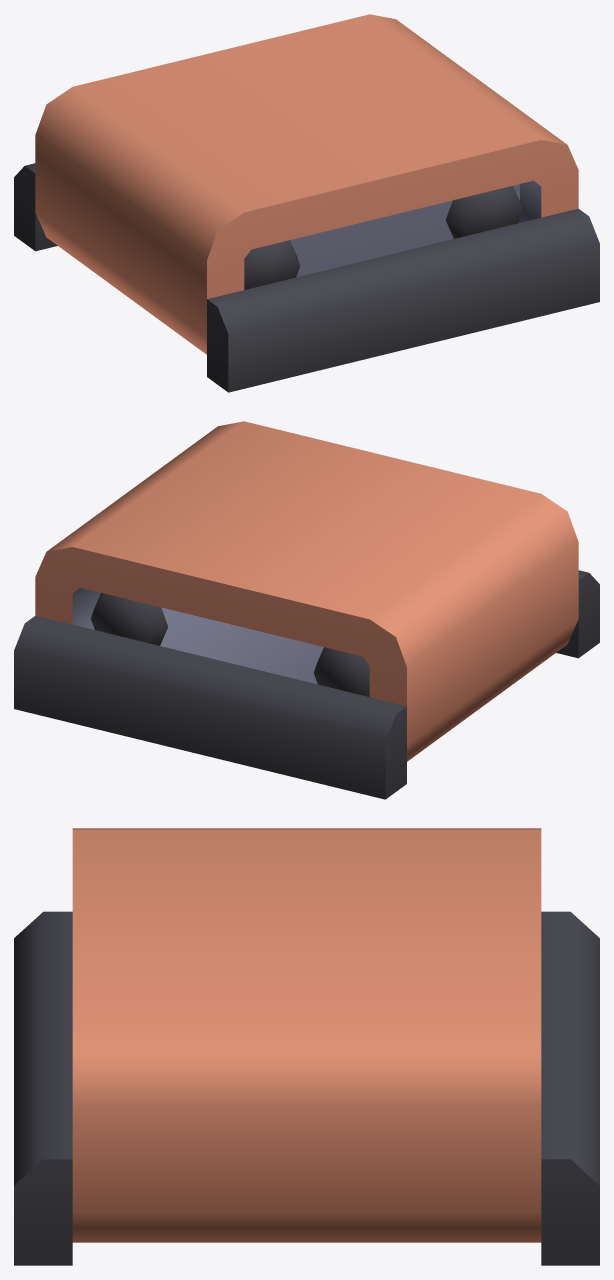
File: conveyor-sides.obj
3 views of the same model, one above another, from view 1: azimuth 30°, elevation 25°; view 2: azimuth 150°, elevation 25°; view 3: azimuth 270°, elevation 25° (orthographic). The views are drawn at different scales.
Visible parts, largest first — view 1: conveyor-sides; view 2: conveyor-sides; view 3: conveyor-sides.
Boxes of the visible parts, x1,y1,x2,y2 form: conveyor-sides: [14, 14, 599, 392]; conveyor-sides: [14, 421, 599, 799]; conveyor-sides: [14, 828, 599, 1265].
Bounding box in the file's own units: 1 × 0.4 × 1.
